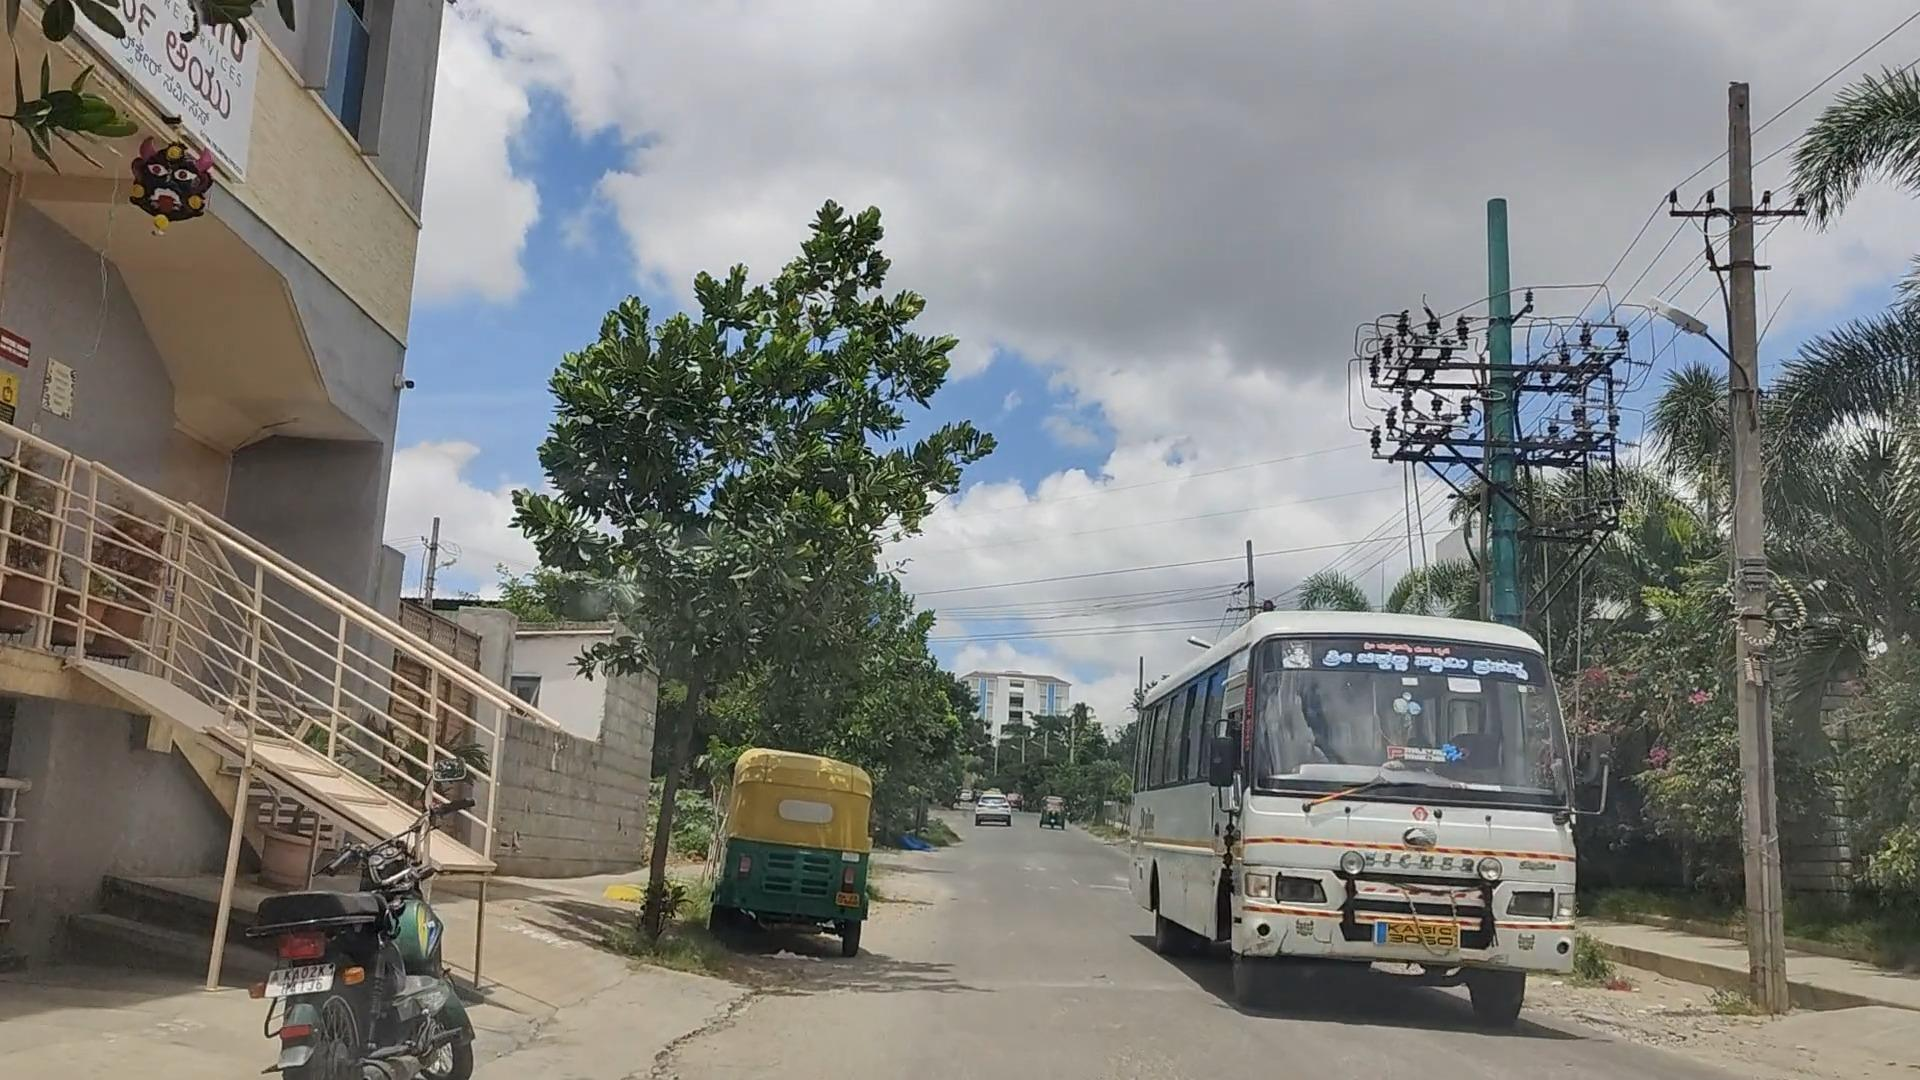HMV: (1126, 601, 1593, 1022)
